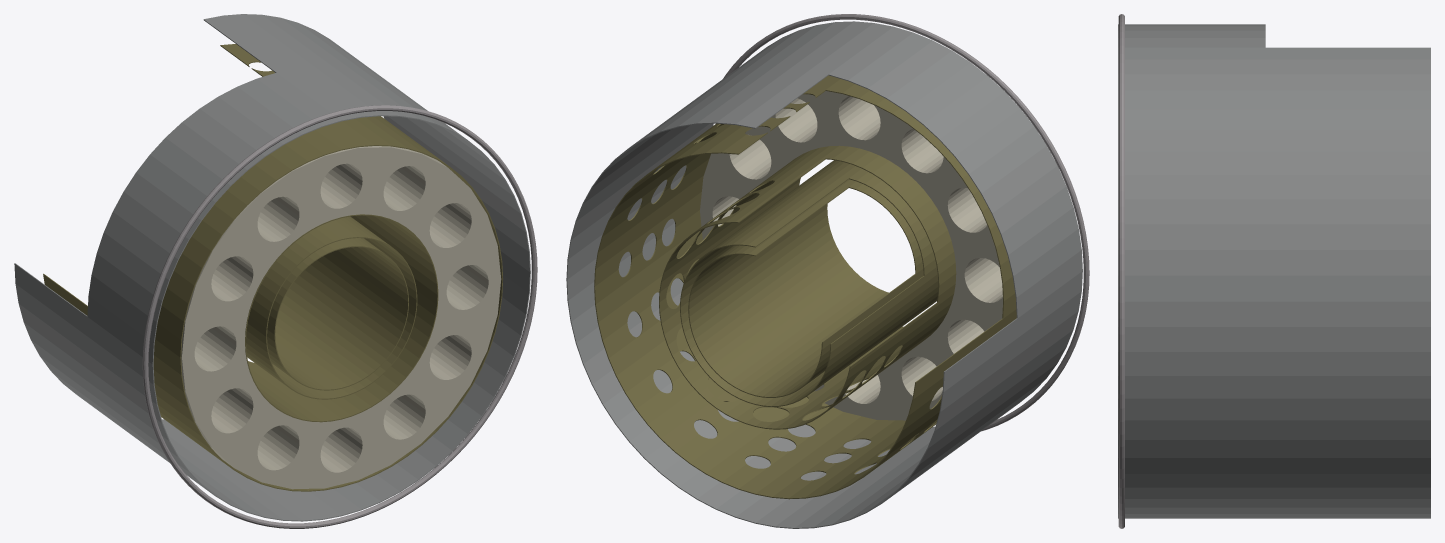
Rendered from combustion_section_ensamble._cut.glb.
3 views of the same model, side by side, from view 1: azimuth 30°, elevation 25°; view 2: azimuth 150°, elevation 25°; view 3: azimuth 270°, elevation 25° (orthographic). The views are drawn at different scales.
Visible parts, largest first — view 1: Combustion_ext_cut, combustion_int0, Combustion_int_cut, Combustion_int2_cut, fuel_ring; view 2: Combustion_ext_cut, Combustion_int_cut, Combustion_int2_cut, combustion_int0, fuel_ring; view 3: Combustion_ext_cut, fuel_ring.
Boxes of the visible parts, bbox=[...] form: Combustion_ext_cut: bbox=[14, 14, 530, 521]; combustion_int0: bbox=[181, 146, 501, 489]; Combustion_int_cut: bbox=[43, 44, 502, 491]; Combustion_int2_cut: bbox=[246, 216, 417, 399]; fuel_ring: bbox=[142, 105, 537, 528]; Combustion_ext_cut: bbox=[566, 21, 1082, 528]; Combustion_int_cut: bbox=[594, 75, 1016, 499]; Combustion_int2_cut: bbox=[680, 160, 938, 406]; combustion_int0: bbox=[700, 91, 1002, 420]; fuel_ring: bbox=[723, 14, 1089, 431]; Combustion_ext_cut: bbox=[1118, 24, 1430, 518]; fuel_ring: bbox=[1118, 14, 1124, 528].
Bounding box in the file's own units: 469 × 469 × 285.
